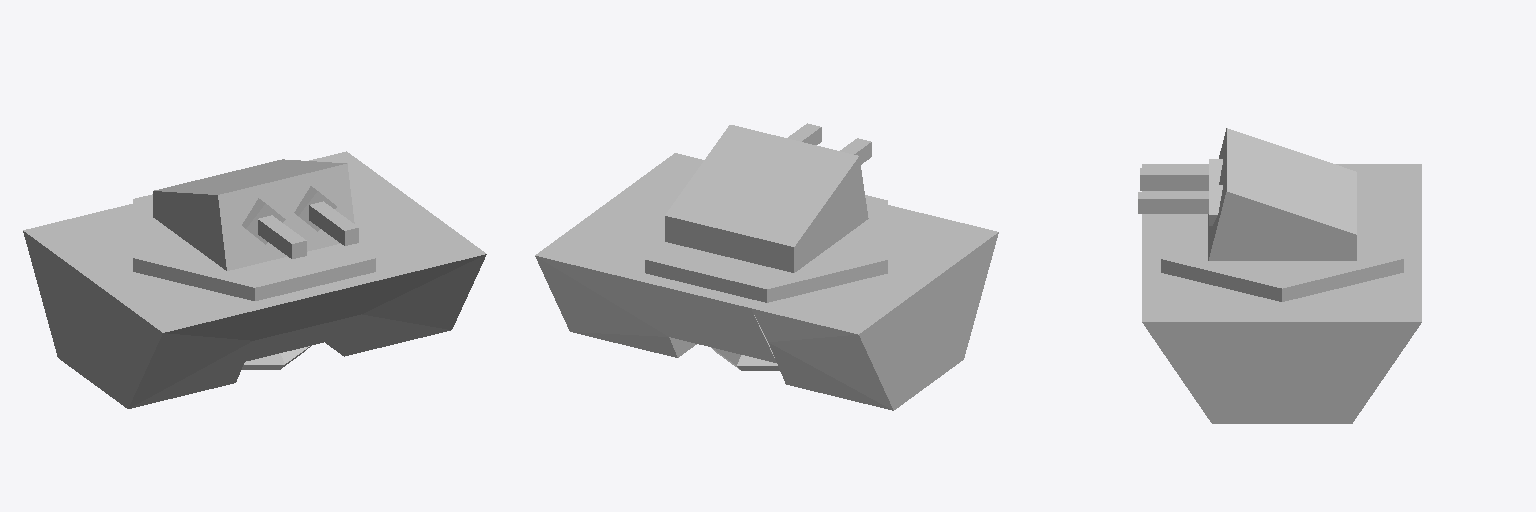
File: weapon.obj
The picture shows the model from 3 angles: view 1: azimuth 30°, elevation 25°; view 2: azimuth 150°, elevation 25°; view 3: azimuth 270°, elevation 25°; orthographic projection.
Visible parts, largest first — view 1: weapon; view 2: weapon; view 3: weapon.
Boxes of the visible parts, <box> form: weapon: <box>23,151,486,408</box>; weapon: <box>535,123,998,410</box>; weapon: <box>1138,128,1421,423</box>.
Bounding box in the file's own units: 4 × 2.27 × 3.04.